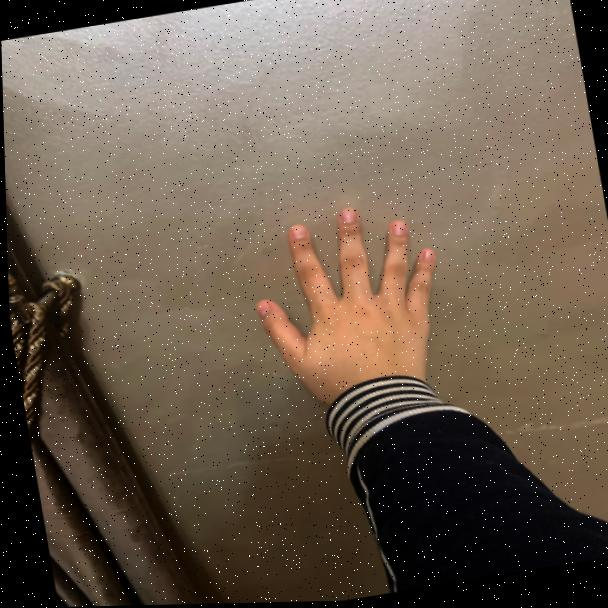five: (227, 192, 478, 414)
